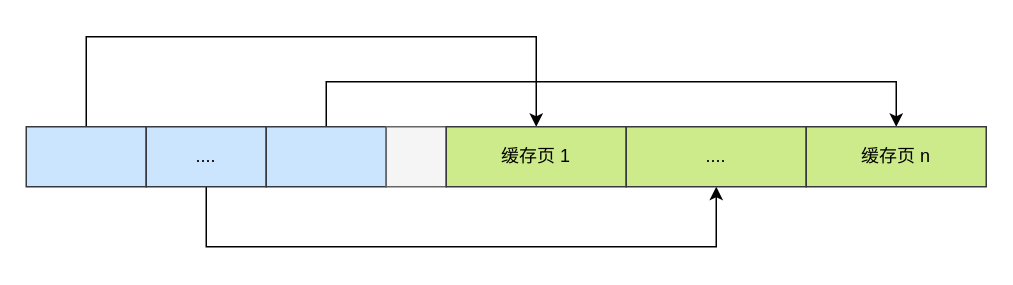
Image size: 1013x285. Some labels were removed from this diagram. Each missing label, with the box of its shape:
控制块 1: (25, 125, 146, 187)
控制块 n: (265, 125, 386, 187)
